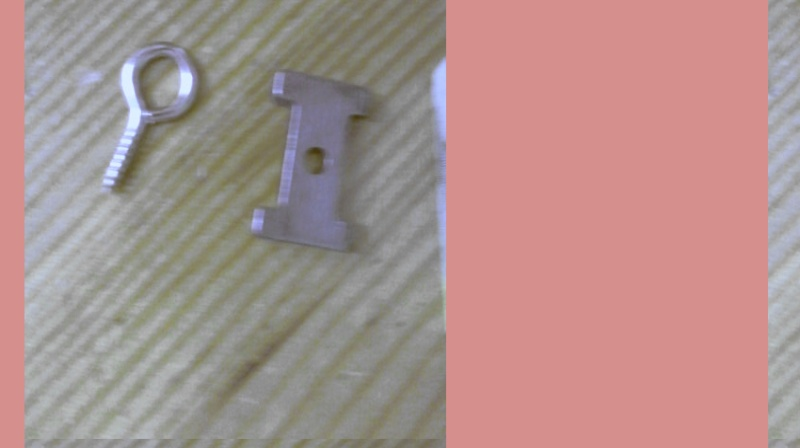O001: (96, 33, 203, 206)
O002: (250, 65, 378, 259)
